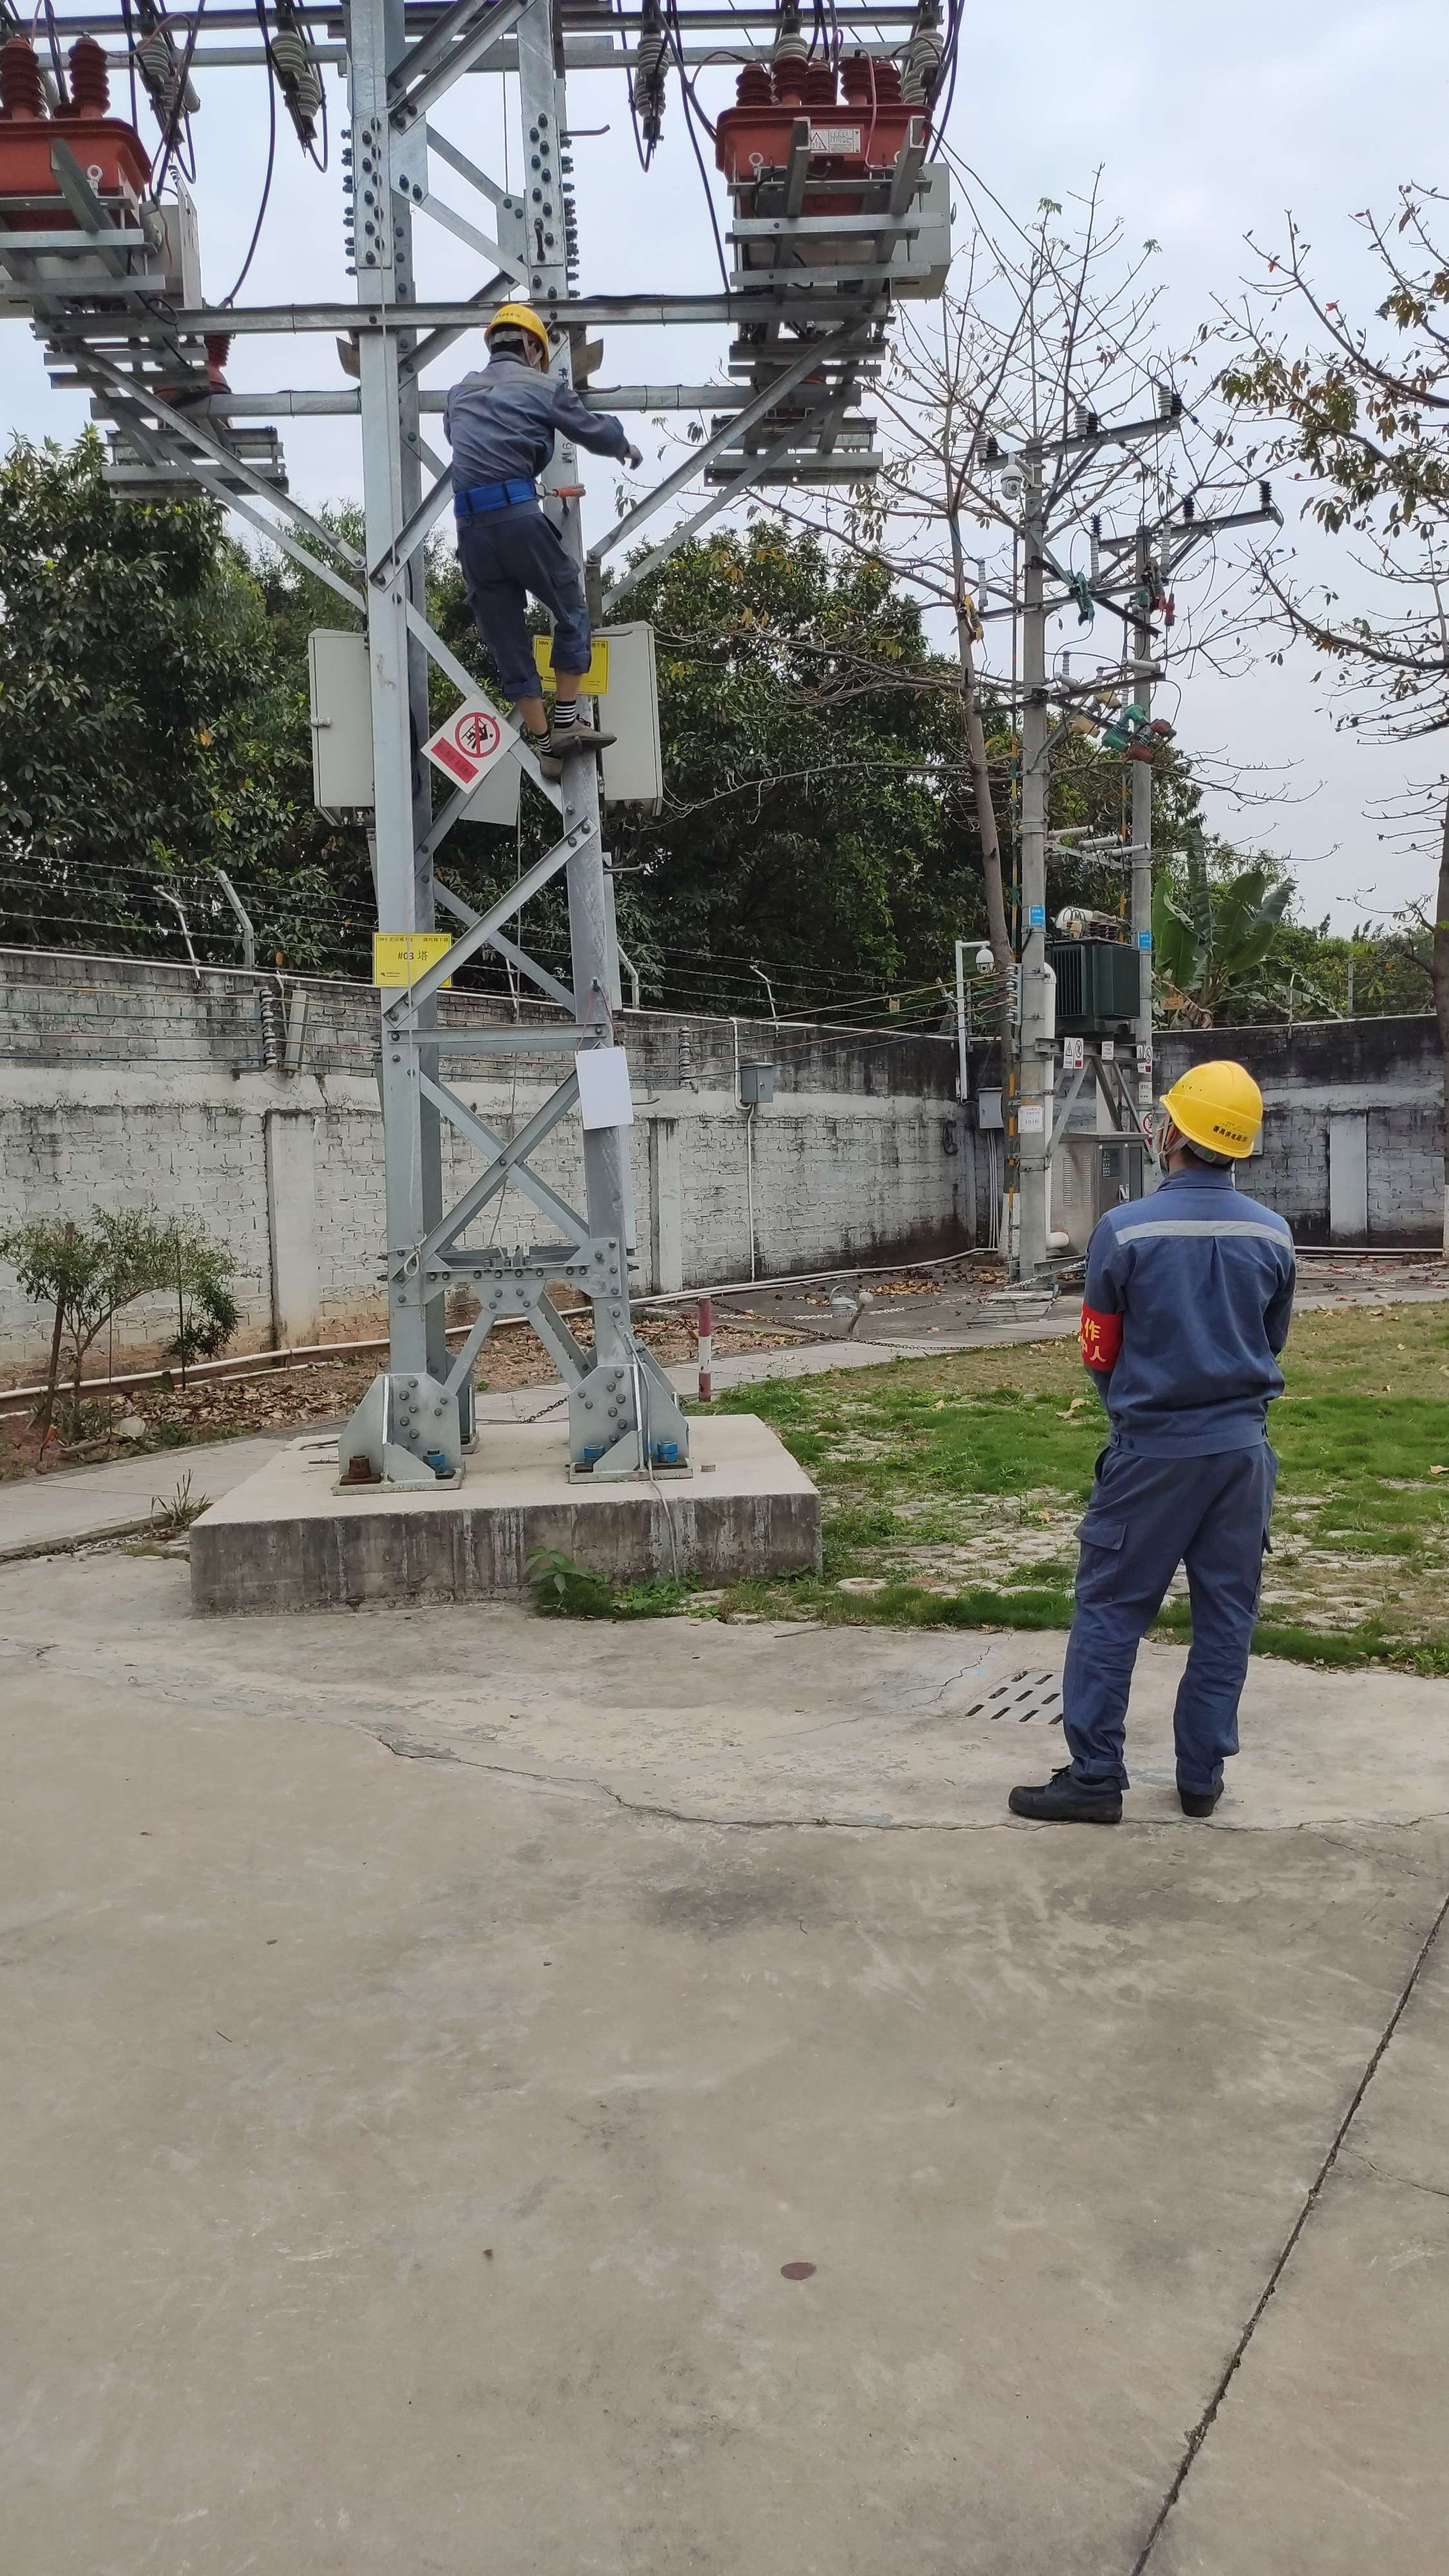downsuit: (1049, 1463, 1281, 1778), (455, 517, 594, 699)
upsuit: (1069, 1173, 1302, 1445), (441, 363, 603, 499)
wrongbottom: (504, 672, 552, 745), (554, 646, 596, 708)
